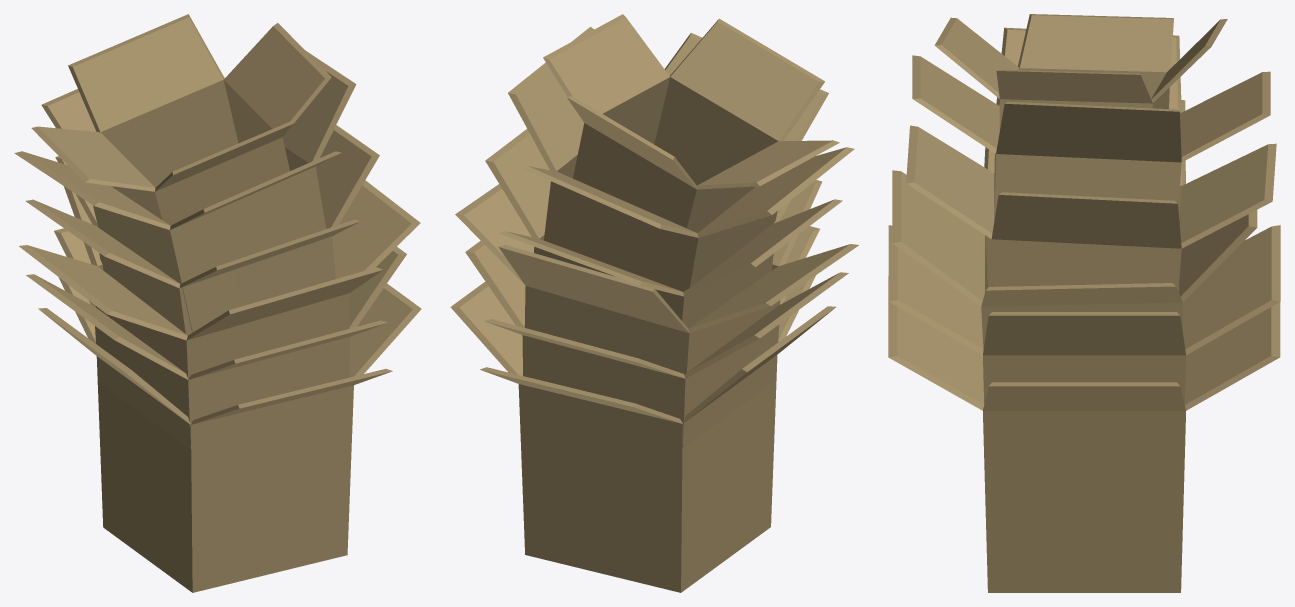
The model's file is SM_1x1_CardBourdBoxes.fbx.
3 renders of one model, left to right at view 1: azimuth 30°, elevation 25°; view 2: azimuth 150°, elevation 25°; view 3: azimuth 270°, elevation 25°, orthographic. The views are drawn at different scales.
Visible parts, largest first — view 1: pCube70; view 2: pCube70; view 3: pCube70.
Boxes of the visible parts, <box> form: pCube70: <box>14,14,421,592</box>; pCube70: <box>450,14,858,592</box>; pCube70: <box>888,14,1280,592</box>.
Size of the model in its own units: 132 by 190 by 130.
